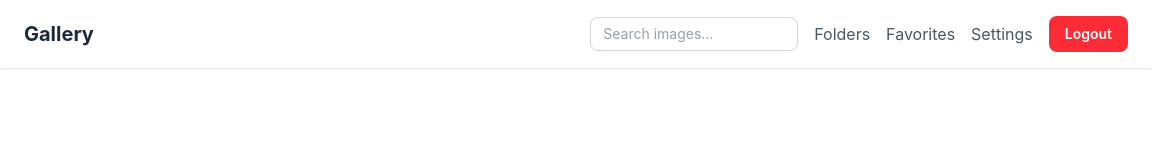
Scenario: NavBar › closes Settings dropdown when clicking outside
Click the button with test id "settings-menu-button" at (1002, 34), box [971, 22, 1033, 46]
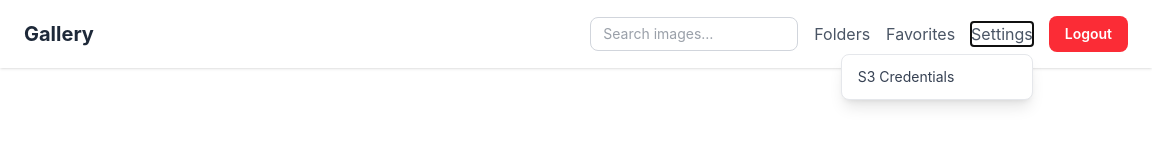
Result: the element with test id "settings-dropdown" is shown at [841, 54, 1033, 100]
Press the mouse on the element showing "Gallery Folders Favorites Settings S3 Credentials Logout" at (576, 34), box [0, 0, 1151, 68]
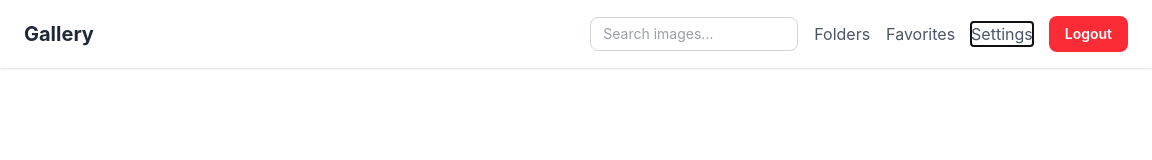
Result: the element with test id "settings-dropdown" is gone
